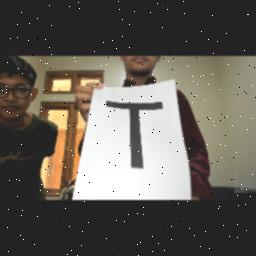t: (102, 96, 172, 178)
